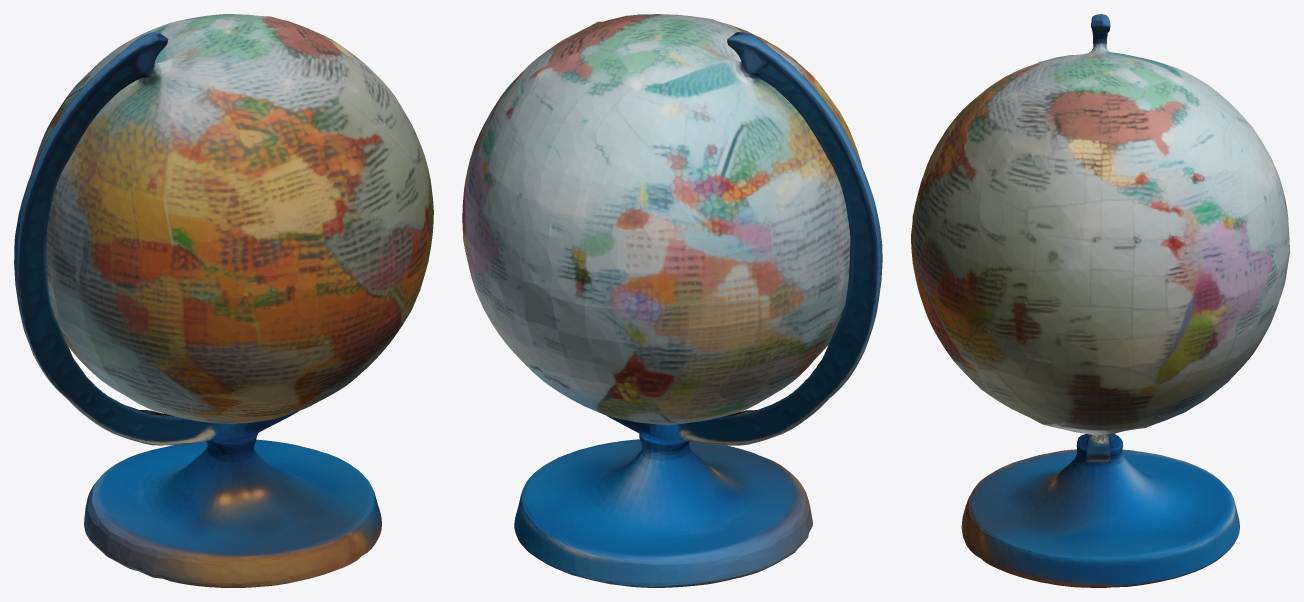
The picture shows the model from 3 angles, left to right: view 1: azimuth 30°, elevation 25°; view 2: azimuth 150°, elevation 25°; view 3: azimuth 270°, elevation 25°; orthographic projection. The views are drawn at different scales.
Visible parts, largest first — view 1: world; view 2: world; view 3: world.
Part boxes in pixels (x1=…): world: x1=14, y1=14, x2=433, y2=587; world: x1=462, y1=14, x2=882, y2=587; world: x1=911, y1=14, x2=1289, y2=587.
Size of the model in its own units: 0.7723 by 0.9607 by 0.6949.
Materials: 1 (1 with a texture image).
